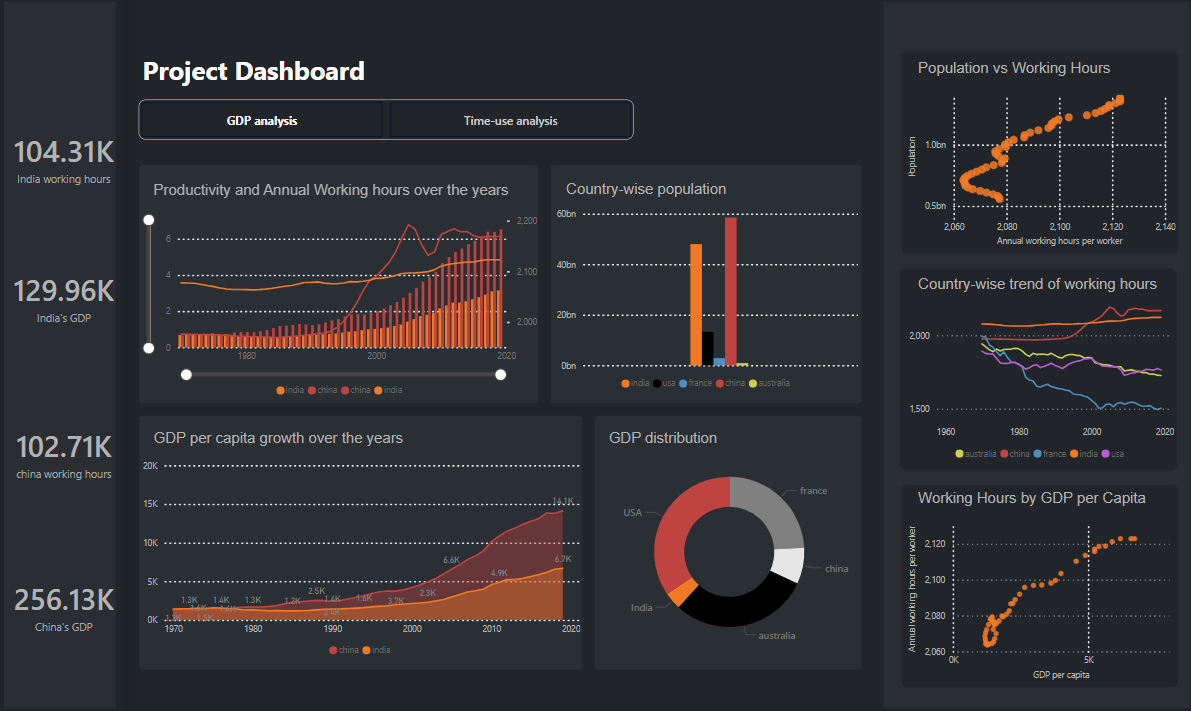

The page's visual inventory and layout, read from the dashboard file:
{"tool":"powerbi","page":{"name":"GDP analysis","canvas":[1500,900],"ordinal":0},"visuals":[{"type":"textbox","box":[177.1,67,299.1,63.6],"z":0},{"type":"pageNavigator","box":[177.1,130.7,618.9,49.9],"z":1000},{"type":"lineChart","title":"Average Annual working hours","fields":{"Category":["australia.Year"],"Y":["Sum(australia.Annual working hours per worker)","Sum(china.Annual working hours per worker)","Sum(france.Annual working hours per worker)","Sum(India.Annual working hours per worker)","Sum(USA.Annual working hours per worker)"]},"box":[1134.6,374.8,342.1,216.6],"z":2000},{"type":"scatterChart","fields":{"X":["India.GDP per capita "],"Y":["India.Annual working hours per worker"]},"box":[1134.6,649.8,342.1,211.4],"z":3000},{"type":"donutChart","title":"GDP ","fields":{"Y":["Max(france.GDP per capita )","Max(china.GDP per capita )","Max(australia.GDP per capita )","Max(India.GDP per capita )","Max(USA.GDP per capita )"]},"box":[750,555,331.7,281.7],"z":4000},{"type":"lineClusteredColumnComboChart","fields":{"Y":["Sum(India.Population )","Sum(USA.Population )","Sum(france.Population )","Sum(china.Population )","Sum(australia.Population )"]},"box":[694.5,259.6,386.8,244.1],"z":5000},{"type":"areaChart","fields":{"Category":["china.Year"],"Y":["Sum(china.GDP per capita)","Sum(India.GDP per capita )"]},"box":[177.1,574.3,557.1,262.9],"z":6000},{"type":"scatterChart","fields":{"X":["India.Annual working hours per worker"],"Y":["India.Population "]},"box":[1134.6,111.7,343.8,208],"z":7000},{"type":"lineClusteredColumnComboChart","fields":{"Y":["Sum(India.Productivity)","Sum(china.Productivity)"],"Category":["china.Year"],"Y2":["Sum(china.Annual working hours per worker)","Sum(India.Annual working hours per worker)"]},"box":[178,268,502,244],"z":8000},{"type":"textbox","box":[191.4,538.6,361.4,31.4],"z":9000},{"type":"textbox","box":[760,538.6,165.7,35.7],"z":10000},{"type":"textbox","box":[707.1,227.1,270,32.9],"z":11000},{"type":"textbox","box":[191.4,228.6,474.3,31.4],"z":12000},{"type":"textbox","box":[1146.6,75.6,281.9,36.1],"z":13000},{"type":"textbox","box":[1146.6,345.5,319.8,36.1],"z":14000},{"type":"textbox","box":[1146.6,613.7,307.7,36.1],"z":15000},{"type":"card","fields":{"Values":["Sum(India.Annual working hours per worker)"]},"box":[15.5,130.7,135.8,146.1],"z":16000},{"type":"card","fields":{"Values":["Sum(India.GDP per capita )"]},"box":[15.5,304.3,135.8,146.1],"z":17000},{"type":"card","fields":{"Values":["Sum(china.Annual working hours per worker)"]},"box":[15.5,503.7,135.8,137.5],"z":18000},{"type":"card","fields":{"Values":["Sum(china.GDP per capita)"]},"box":[15.5,691.1,135.8,146.1],"z":19000}]}

Visuals, with their boxes in screenshot pixels (x1, y1, x2, y2), scaled from the page's 1500x900 canvas onto the 1191x711 screenshot:
textbox: detection(141, 53, 378, 103)
pageNavigator: detection(141, 103, 632, 143)
"Average Annual working hours" lineChart: detection(901, 296, 1172, 467)
scatterChart - India.GDP per capita  x India.Annual working hours per worker: detection(901, 513, 1172, 680)
"GDP " donutChart: detection(596, 438, 859, 661)
lineClusteredColumnComboChart - Sum(India.Population ) x Sum(USA.Population ): detection(551, 205, 859, 398)
areaChart - china.Year x Sum(china.GDP per capita): detection(141, 454, 583, 661)
scatterChart - India.Annual working hours per worker x India.Population : detection(901, 88, 1174, 253)
lineClusteredColumnComboChart - Sum(India.Productivity) x Sum(china.Productivity): detection(141, 212, 540, 404)
textbox: detection(152, 425, 439, 450)
textbox: detection(603, 425, 735, 454)
textbox: detection(561, 179, 776, 205)
textbox: detection(152, 181, 529, 205)
textbox: detection(910, 60, 1134, 88)
textbox: detection(910, 273, 1164, 301)
textbox: detection(910, 485, 1155, 513)
card - Sum(India.Annual working hours per worker): detection(12, 103, 120, 219)
card - Sum(India.GDP per capita ): detection(12, 240, 120, 356)
card - Sum(china.Annual working hours per worker): detection(12, 398, 120, 507)
card - Sum(china.GDP per capita): detection(12, 546, 120, 661)
